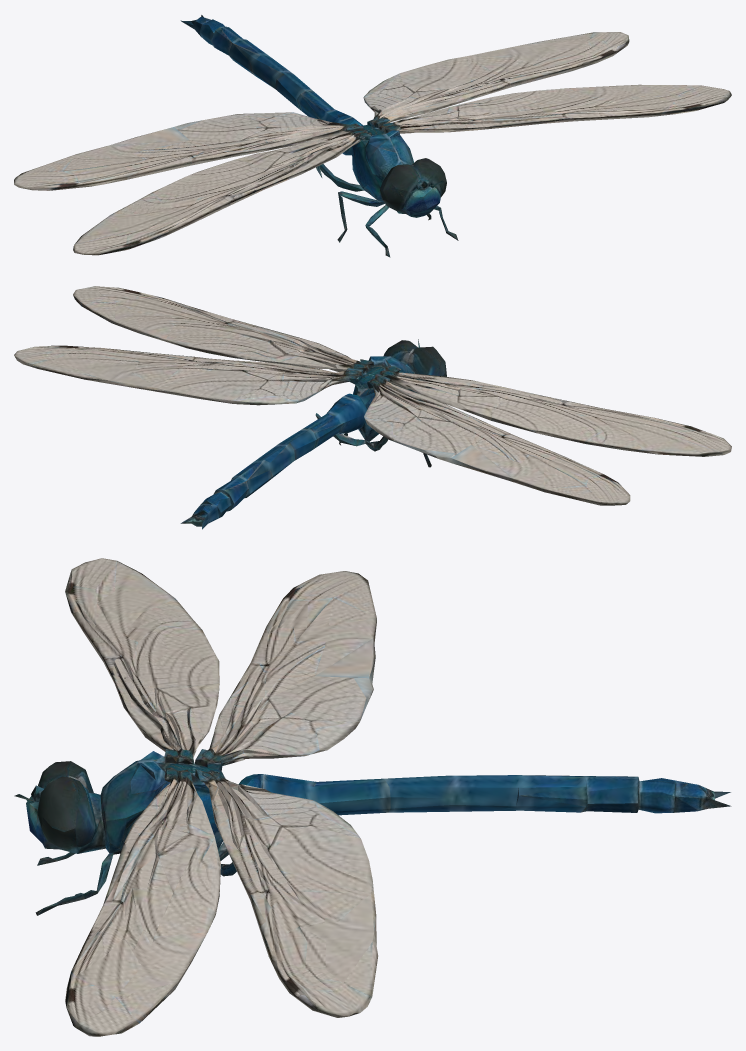
The model's file is sp_m_dragonfly.glb.
3 renders of one model, top to bottom at view 1: azimuth 30°, elevation 25°; view 2: azimuth 150°, elevation 25°; view 3: azimuth 270°, elevation 25°, orthographic. The views are drawn at different scales.
Visible parts, largest first — view 1: Mesh_0; view 2: Mesh_0; view 3: Mesh_0.
Boxes of the visible parts, box(x1,y1,x2,y2) form: Mesh_0: box(14, 15, 731, 257); Mesh_0: box(14, 286, 731, 529); Mesh_0: box(14, 558, 731, 1036).
Size of the model in its own units: 1.9 by 0.2702 by 1.21.
1 material, 1 textured.
